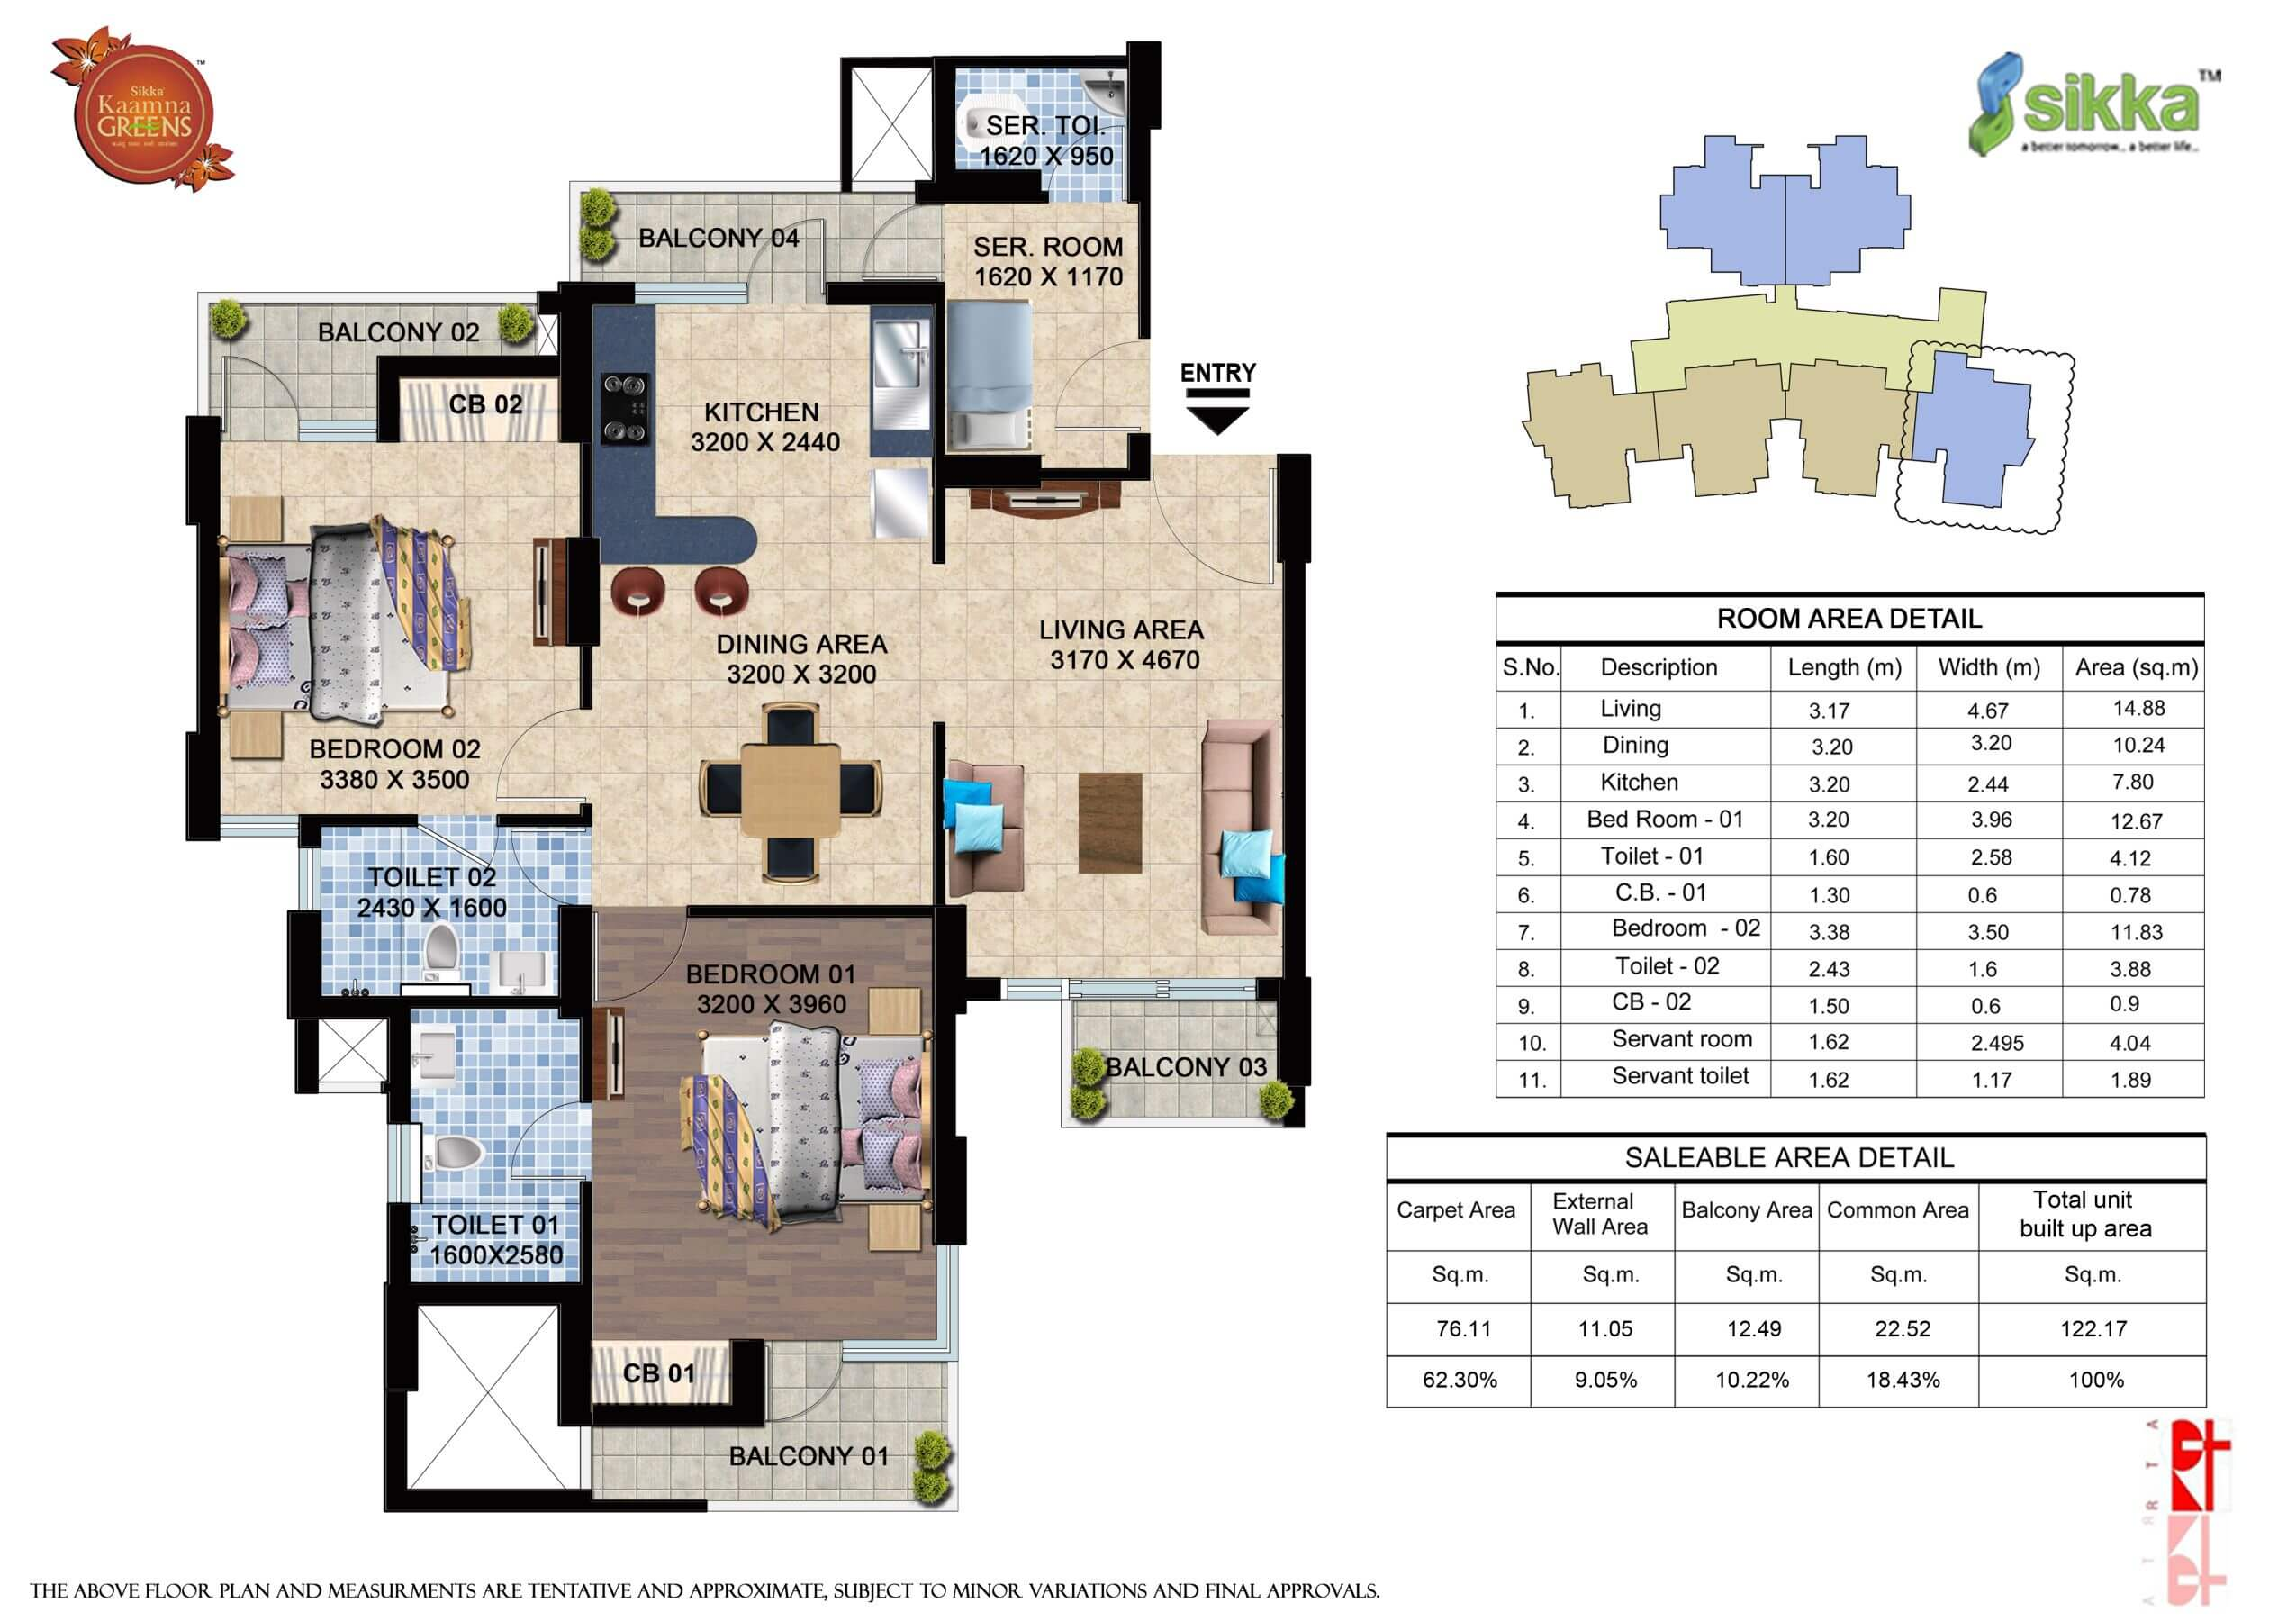door: (1156, 474, 1272, 586), (489, 700, 577, 803), (591, 916, 686, 1003), (1049, 335, 1130, 435), (503, 1098, 575, 1182), (765, 1354, 840, 1432), (219, 349, 296, 419), (751, 214, 828, 281), (505, 825, 568, 903), (856, 205, 917, 281)
